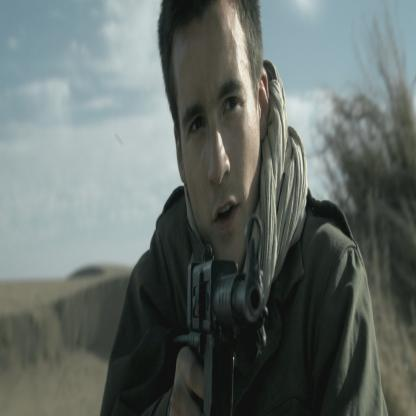gun: (184, 237, 269, 404)
